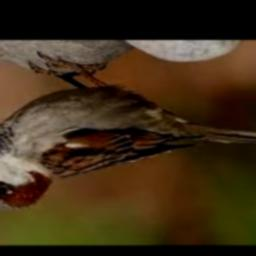Sparrow: (0, 53, 256, 210)
